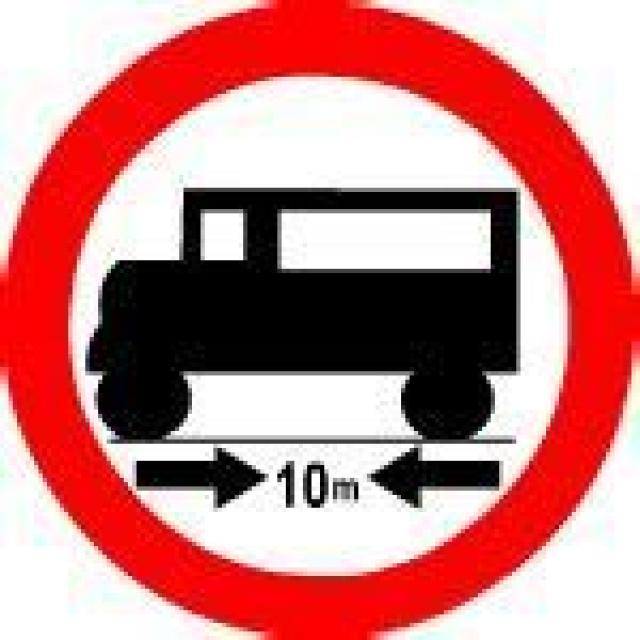length_limit: (0, 0, 636, 636)
